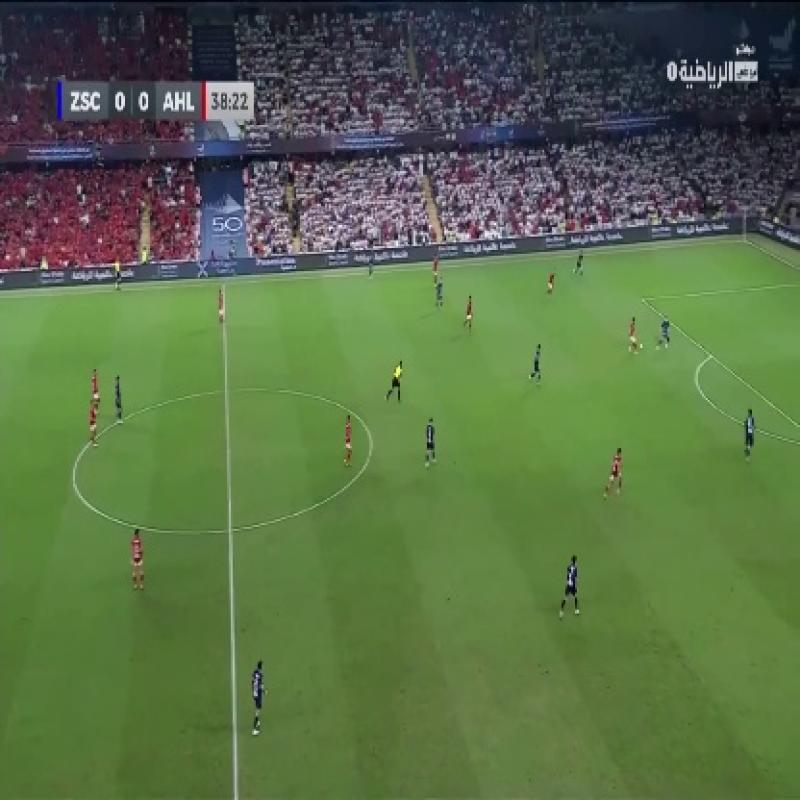1: (734, 233, 752, 246)
10: (704, 344, 718, 364)
13: (216, 273, 233, 292)
14: (212, 375, 238, 406)
15: (215, 512, 240, 544)
9: (634, 288, 648, 306)
c: (57, 466, 92, 490), (356, 424, 382, 450)
